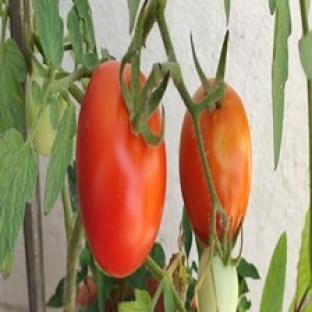Tomato: (77, 60, 165, 278), (200, 85, 250, 233), (198, 248, 238, 311), (26, 73, 43, 128), (77, 278, 97, 307)
